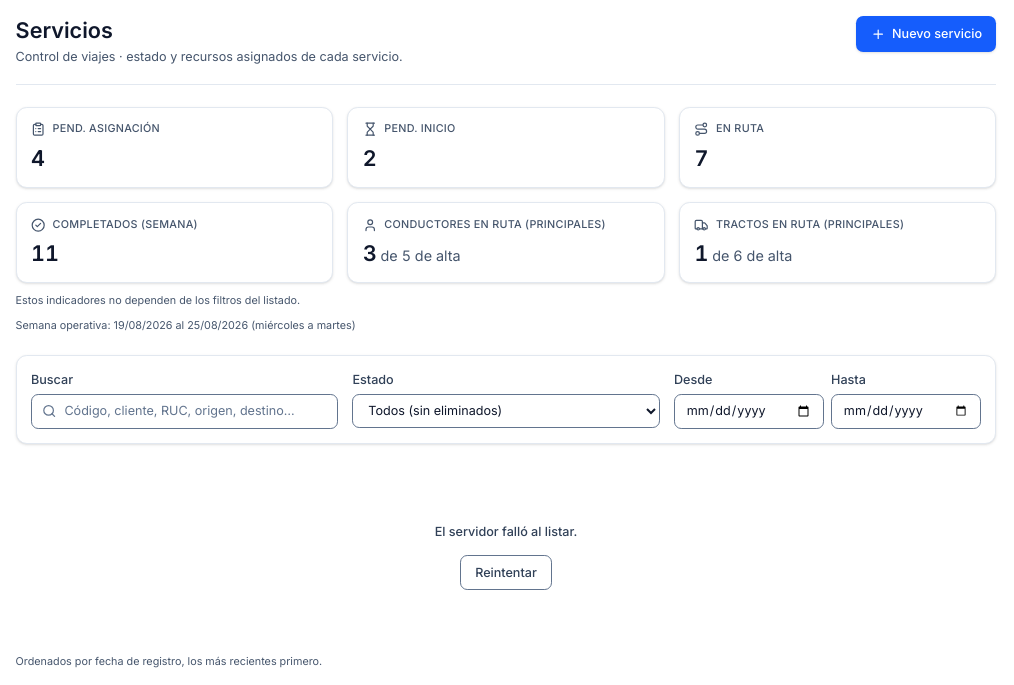
ServicesListPage › muestra el error del backend y permite reintentar
Expected: the text "El servidor falló al listar." is shown, x1=435 y1=523 x2=577 y2=541
Click the button "Reintentar" at x=506, y=573, box x1=460 y1=556 x2=552 y2=590
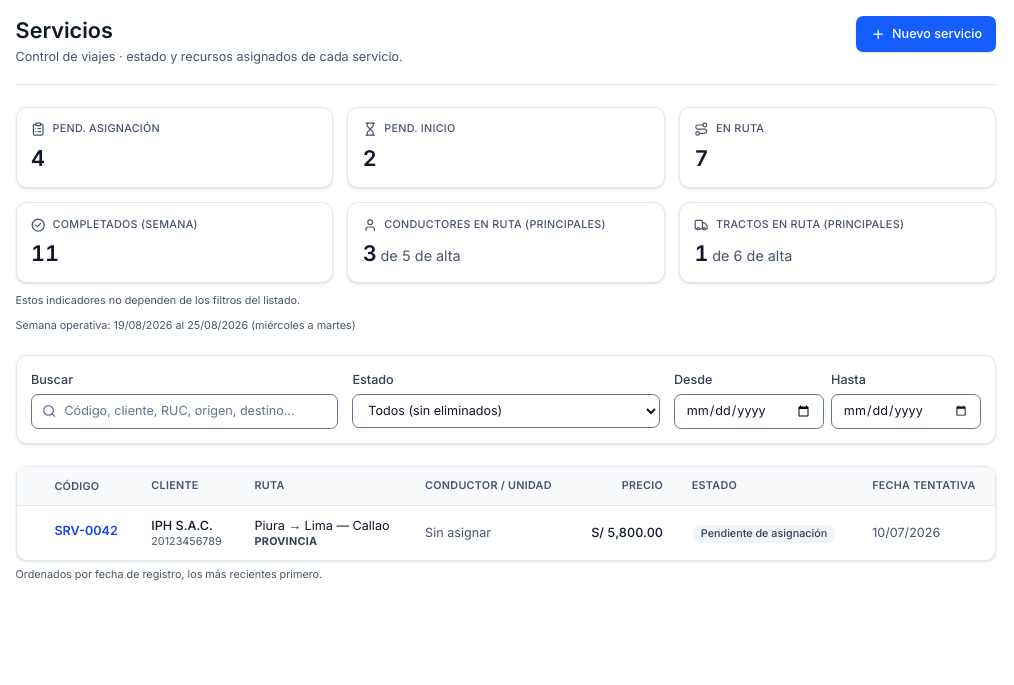
Now the text "SRV-0042" is shown, box x1=54 y1=522 x2=118 y2=540
